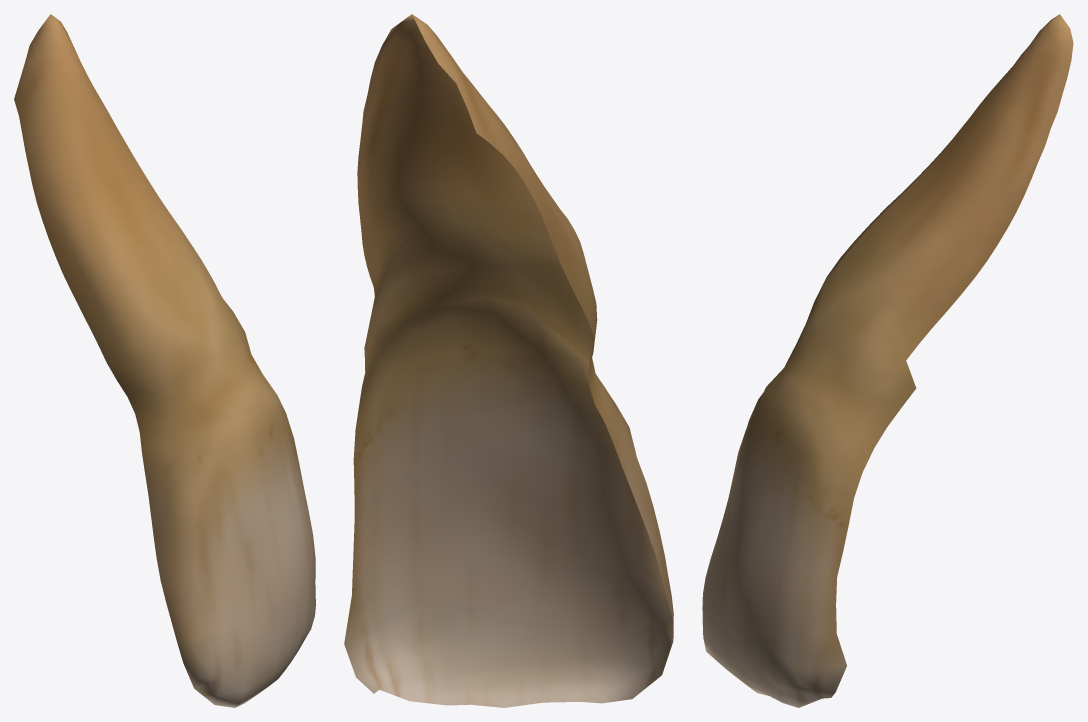
The model's file is tooth-21.glb.
3 renders of one model, left to right at view 1: azimuth 30°, elevation 25°; view 2: azimuth 150°, elevation 25°; view 3: azimuth 270°, elevation 25°, orthographic. The views are drawn at different scales.
Visible parts, largest first — view 1: teeth_1; view 2: teeth_1; view 3: teeth_1.
Part boxes in pixels (x1=…): teeth_1: x1=14, y1=14, x2=315, y2=707; teeth_1: x1=344, y1=14, x2=673, y2=707; teeth_1: x1=702, y1=14, x2=1073, y2=707.
Bounding box in the file's own units: 0.0214 × 0.0618 × 0.0326.
1 material, 1 textured.
